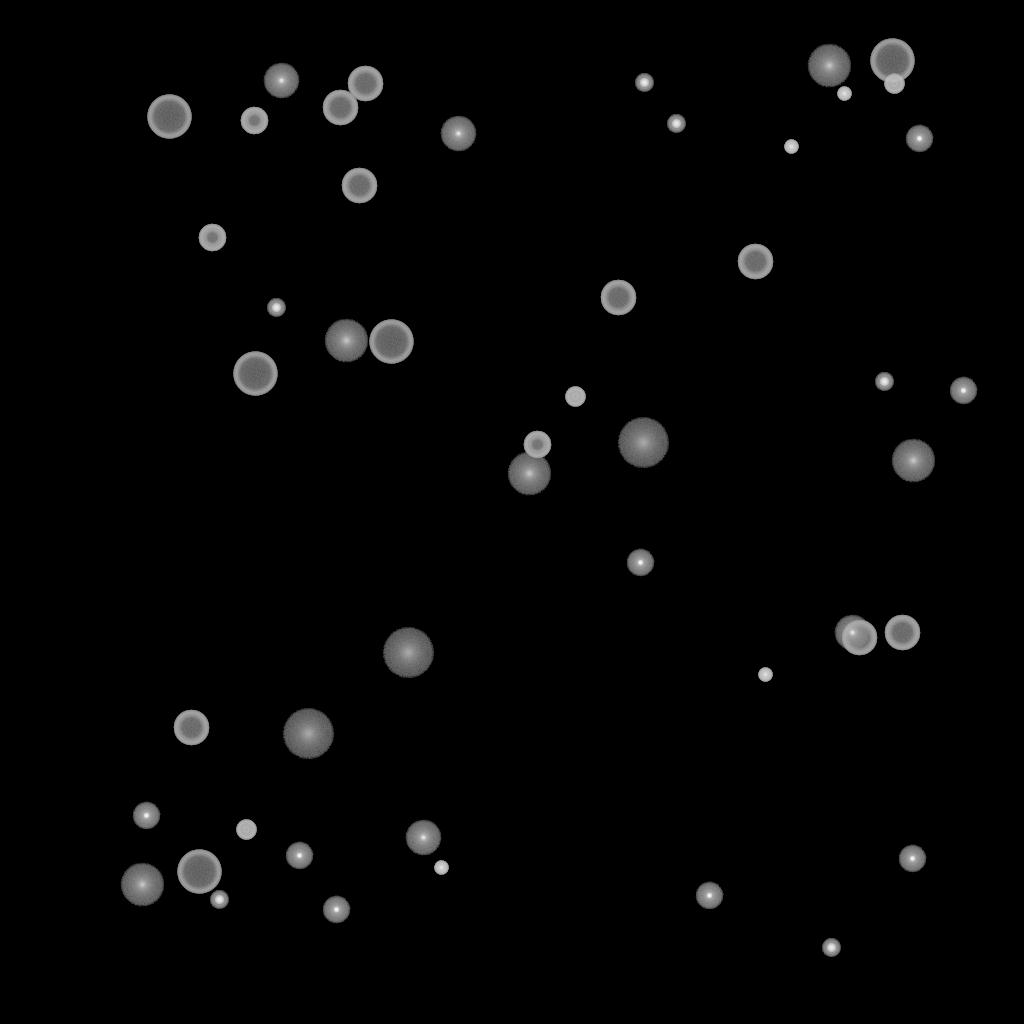depth:-10: (322, 896, 350, 924), (905, 125, 933, 153), (132, 802, 160, 830), (898, 845, 926, 873), (695, 882, 723, 910), (285, 842, 313, 870), (949, 377, 977, 405), (626, 549, 654, 577)
depth:-20: (210, 891, 228, 909), (822, 939, 840, 957), (667, 115, 685, 133), (635, 74, 653, 92), (267, 299, 285, 317), (875, 373, 893, 391)
depth:-30: (837, 87, 851, 101), (434, 861, 448, 875), (758, 668, 772, 682), (784, 140, 798, 154)
depth:-40: (884, 74, 904, 94), (236, 820, 256, 840), (565, 387, 585, 407)
depth:-50: (240, 107, 268, 135), (523, 431, 551, 459), (198, 224, 226, 252)
depth:-60: (600, 280, 636, 316), (173, 710, 209, 746), (341, 168, 377, 204), (884, 615, 920, 651), (841, 620, 877, 656), (322, 90, 358, 126), (737, 244, 773, 280), (347, 66, 383, 102)
depth:-70: (233, 352, 277, 396), (369, 320, 413, 364), (870, 39, 914, 83), (177, 850, 221, 894), (147, 95, 191, 139)
depth:0: (440, 116, 476, 152), (263, 63, 299, 99), (405, 820, 441, 856), (834, 615, 870, 651)
depth:10: (807, 44, 851, 88), (507, 452, 551, 496), (324, 319, 368, 363), (891, 439, 935, 483), (120, 863, 164, 907)
depth:20: (617, 418, 669, 468), (282, 709, 334, 759), (382, 628, 434, 678)
